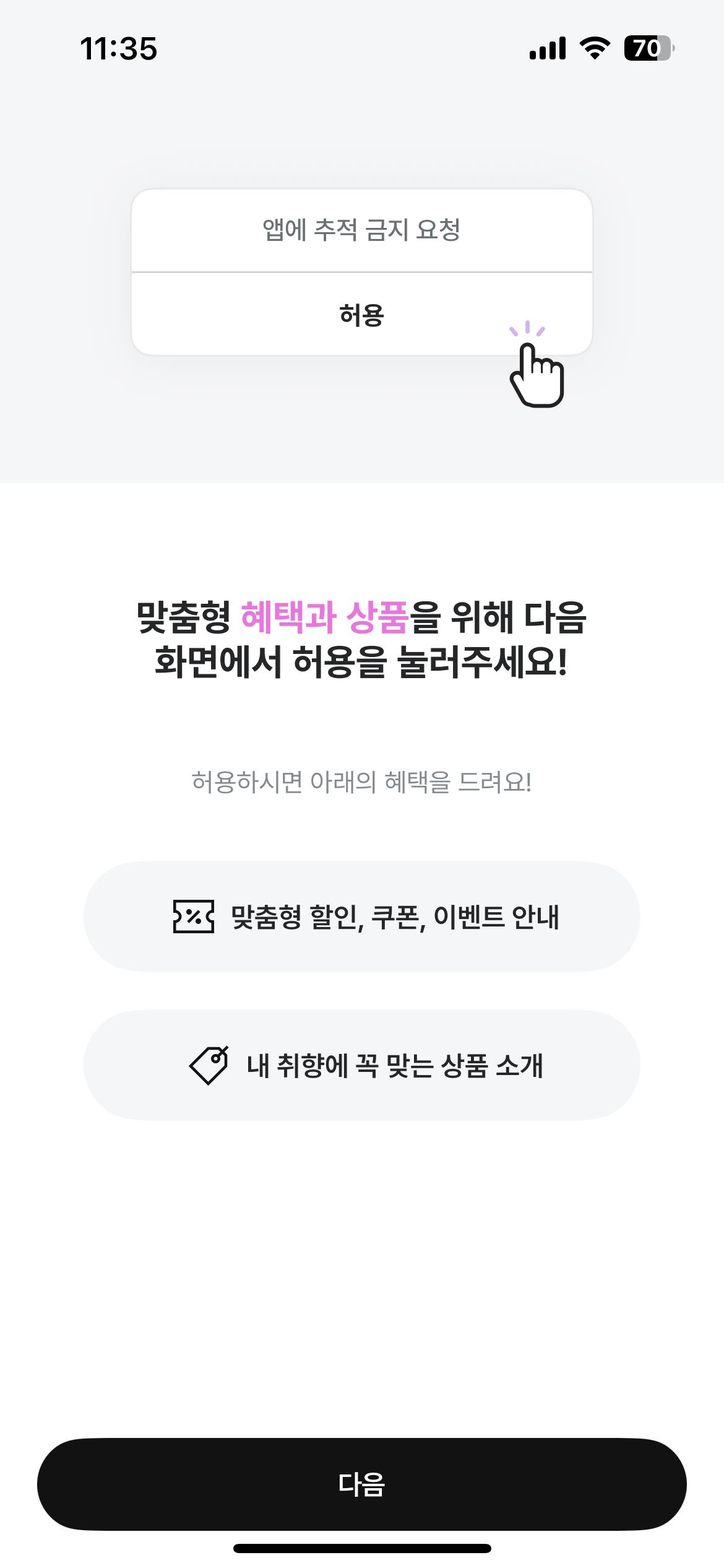button: (76, 1003, 641, 1123), (35, 1435, 693, 1536), (78, 859, 648, 974), (138, 190, 590, 272), (138, 279, 590, 353)
